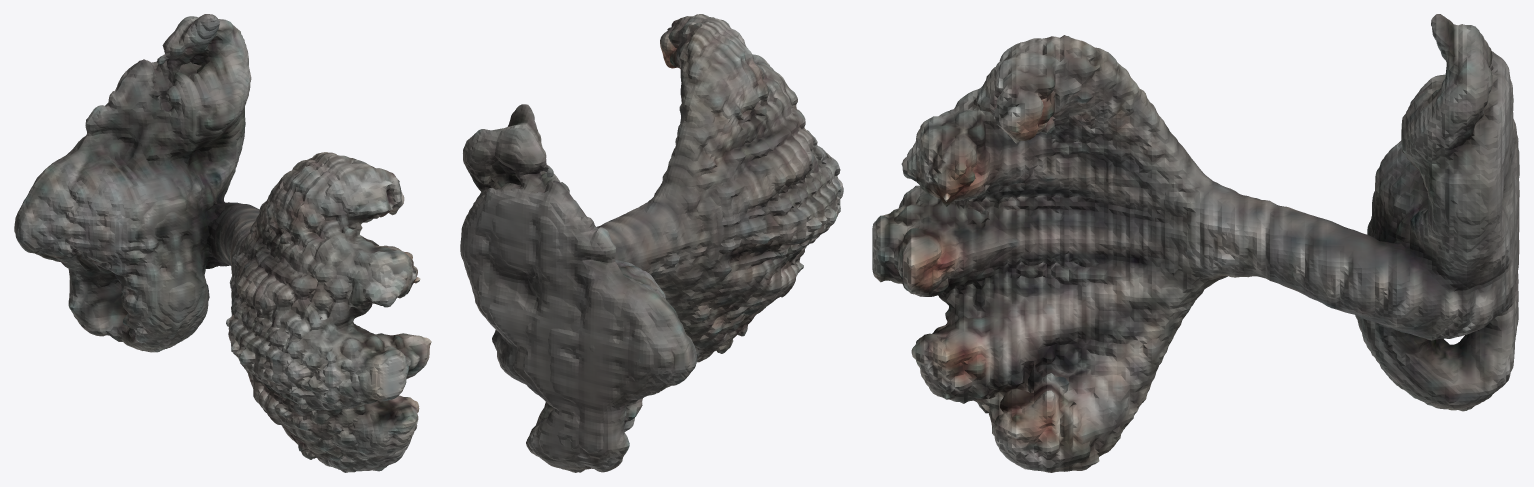
Rendered from sheshnag.glb.
The picture shows the model from 3 angles, left to right: view 1: azimuth 30°, elevation 25°; view 2: azimuth 150°, elevation 25°; view 3: azimuth 270°, elevation 25°; orthographic projection. The views are drawn at different scales.
Parts seen in each view (by area): view 1: world; view 2: world; view 3: world.
Boxes of the visible parts, x1=… form: world: x1=14, y1=14, x2=431, y2=472; world: x1=460, y1=14, x2=843, y2=472; world: x1=872, y1=14, x2=1519, y2=472.
Size of the model in its own units: 0.519 by 0.7754 by 1.01.
